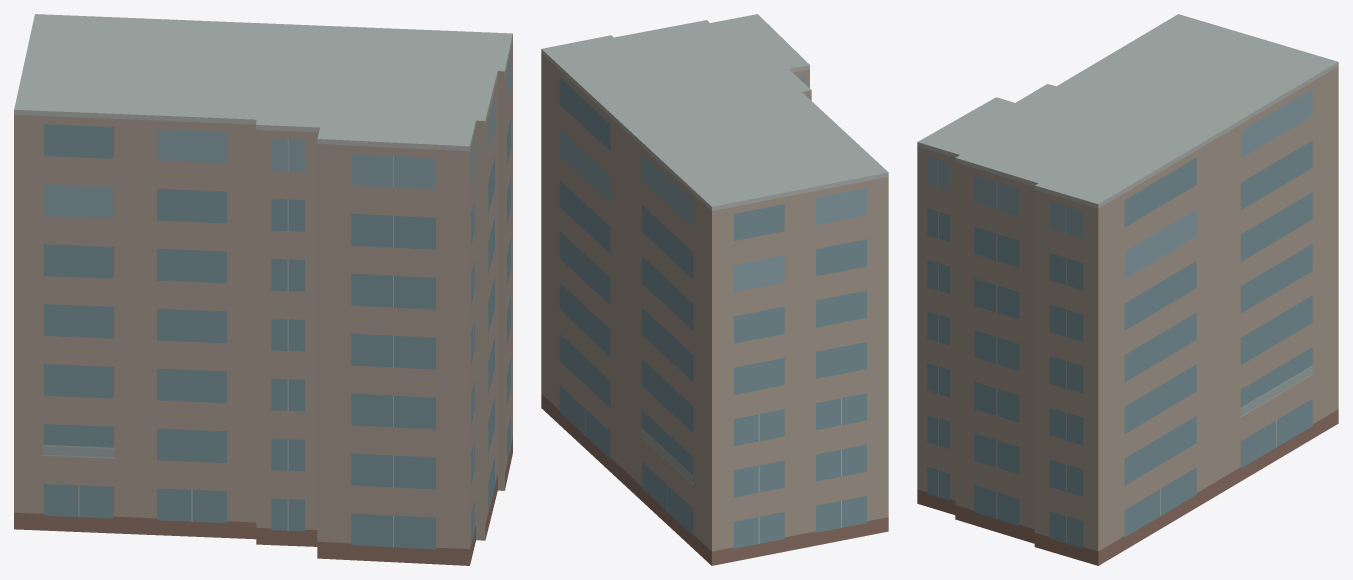
File: survey-upis-32993425.glb
The picture shows the model from 3 angles, left to right: view 1: azimuth 30°, elevation 25°; view 2: azimuth 150°, elevation 25°; view 3: azimuth 270°, elevation 25°; orthographic projection. The views are drawn at different scales.
Visible parts, largest first — view 1: survey-upis-32993425.tmp; view 2: survey-upis-32993425.tmp; view 3: survey-upis-32993425.tmp.
Boxes of the visible parts, x1=… form: survey-upis-32993425.tmp: x1=14, y1=14, x2=512, y2=565; survey-upis-32993425.tmp: x1=541, y1=14, x2=888, y2=565; survey-upis-32993425.tmp: x1=917, y1=14, x2=1338, y2=565.
Bounding box in the file's own units: 22.68 × 20.1 × 21.22.
